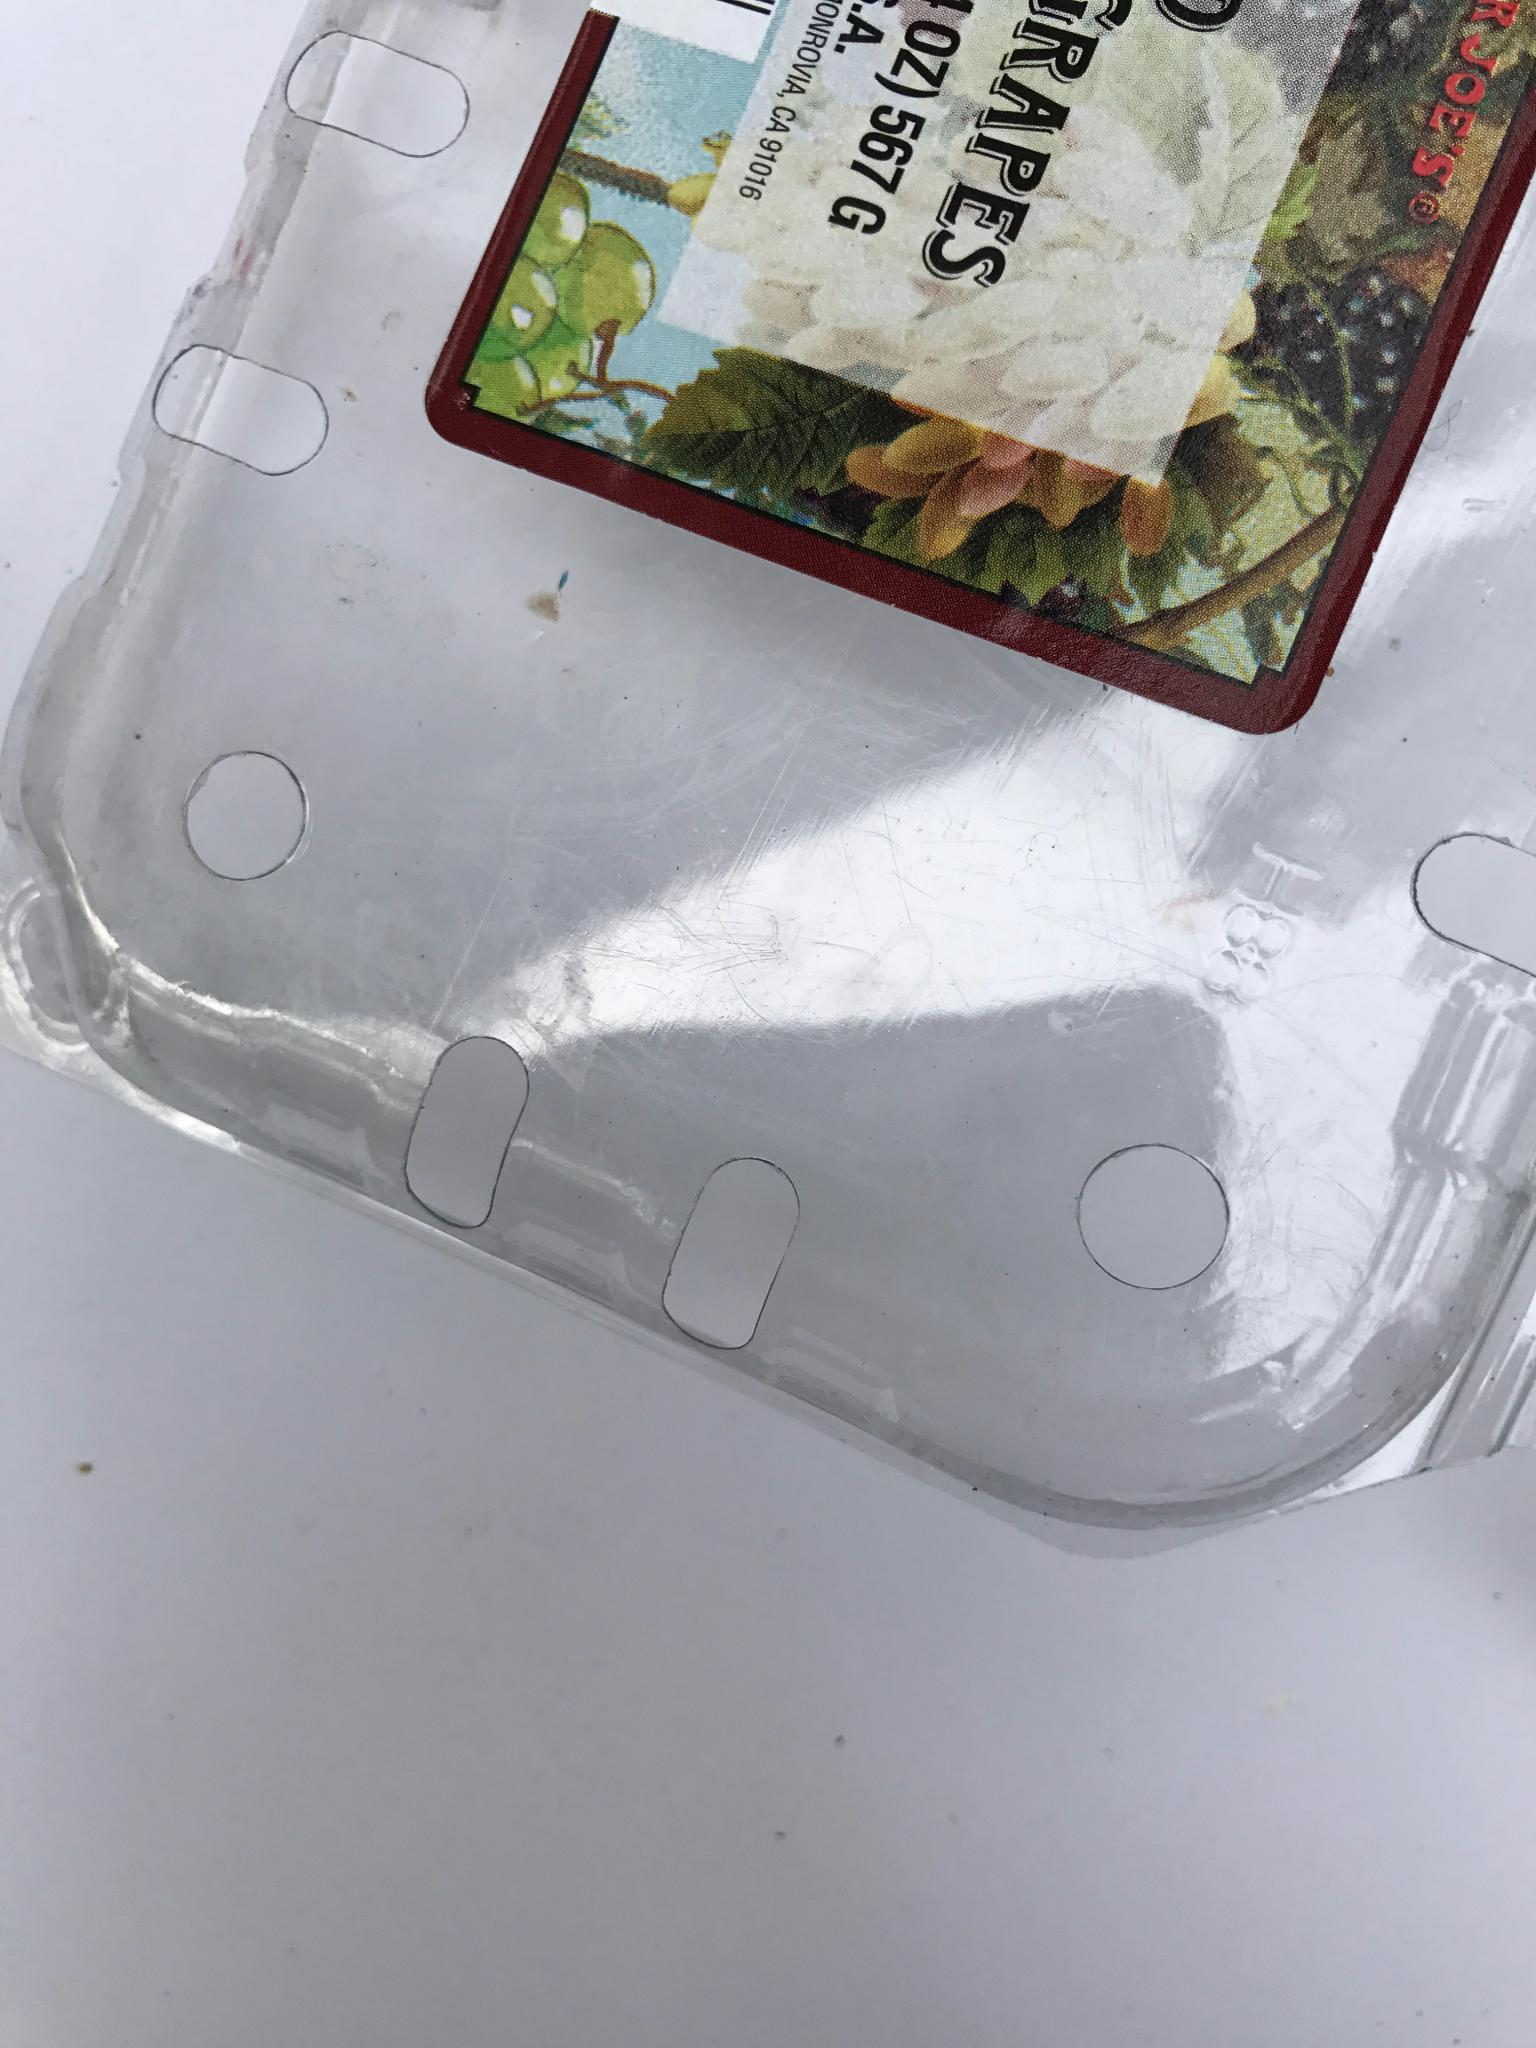Plastic: (0, 0, 1534, 1564)
